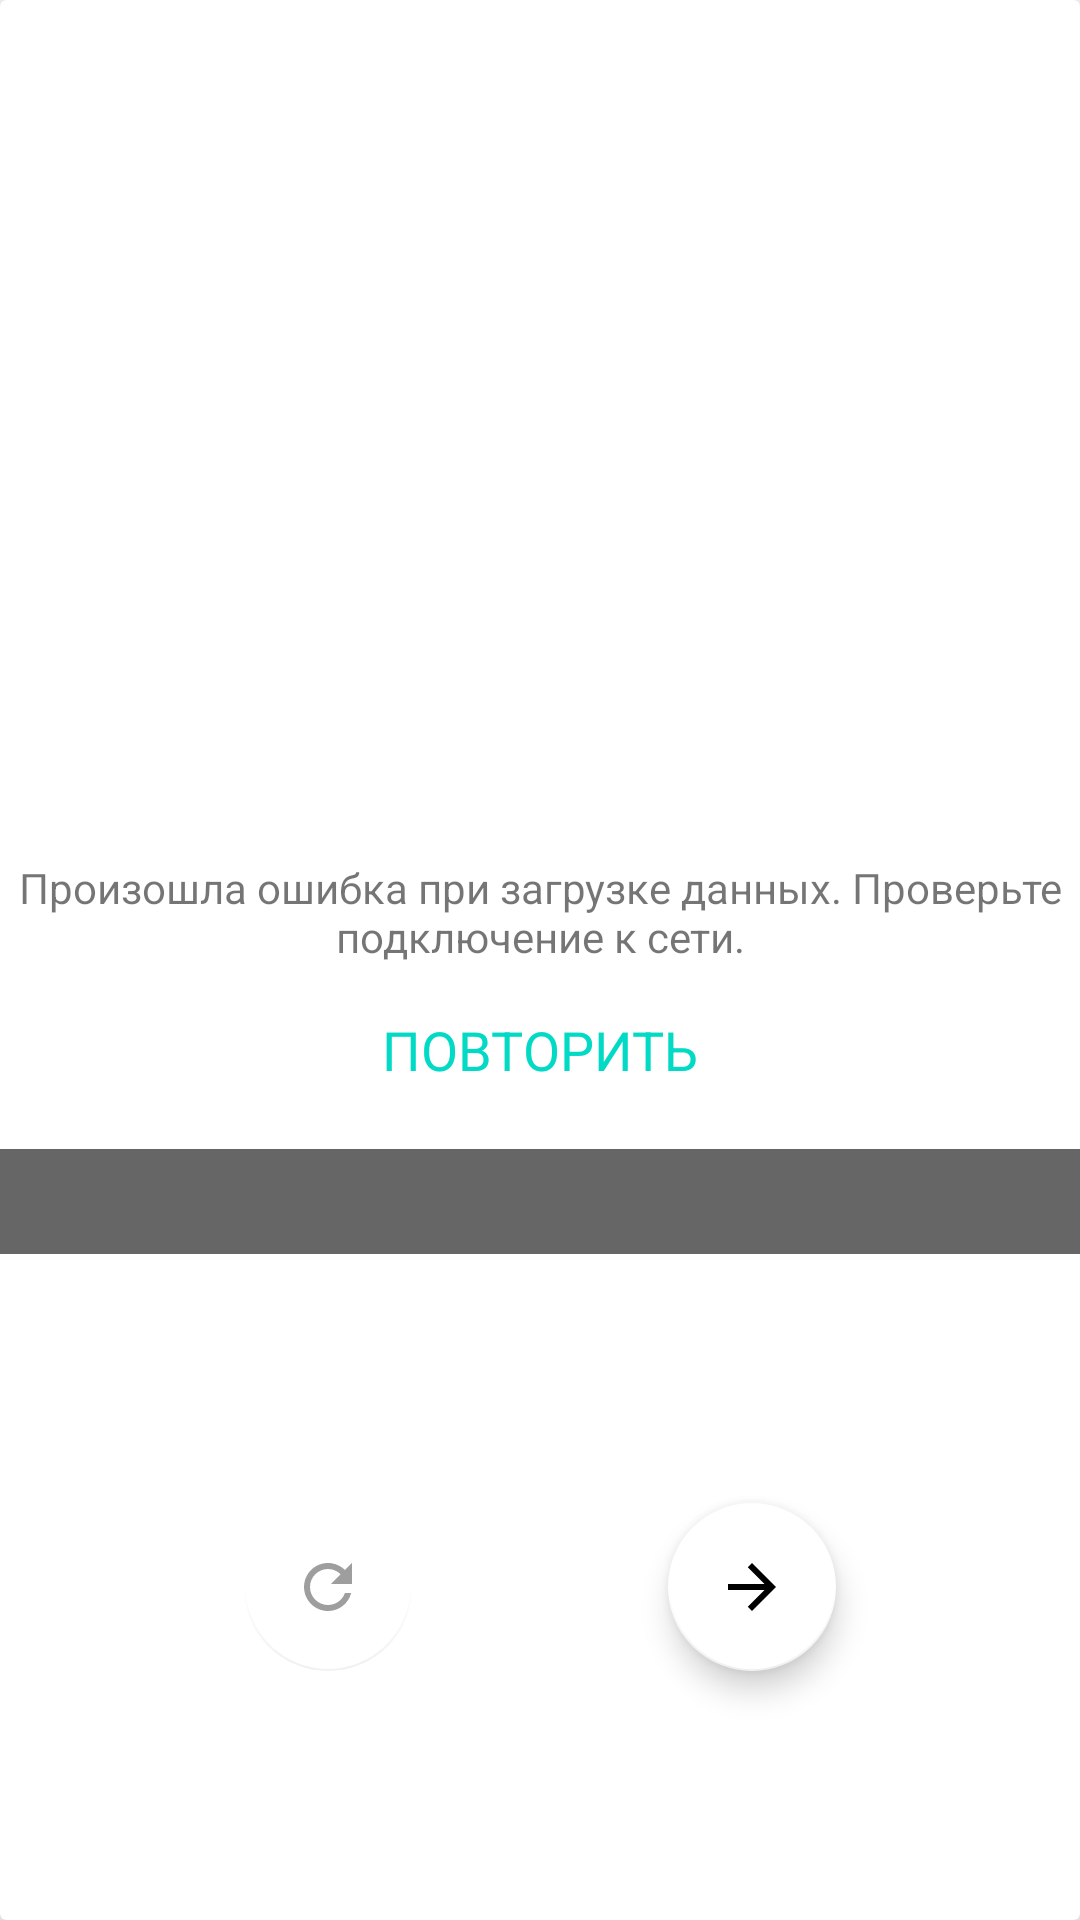

Icons on this 1080x1920 Android screen, each with the point to tap as point (x, y):
next: point (753, 1617)
refresh: point (328, 1587)
